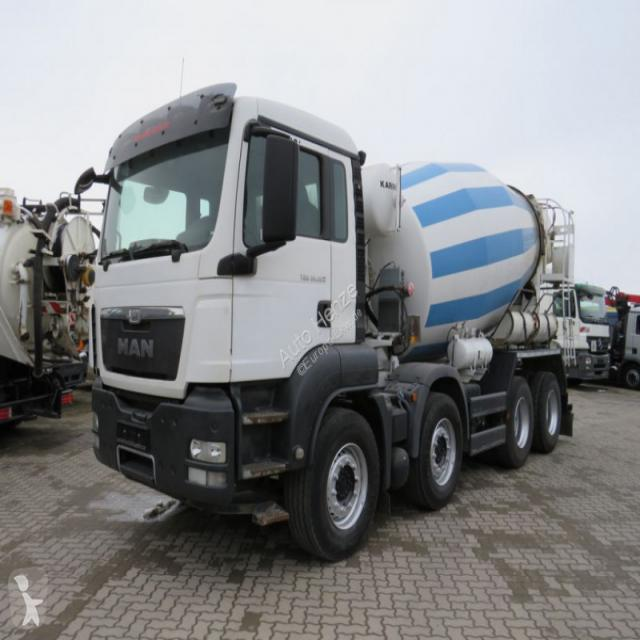Mixer Truck: (91, 80, 573, 564), (0, 183, 102, 446), (530, 281, 613, 394), (600, 294, 640, 390)
